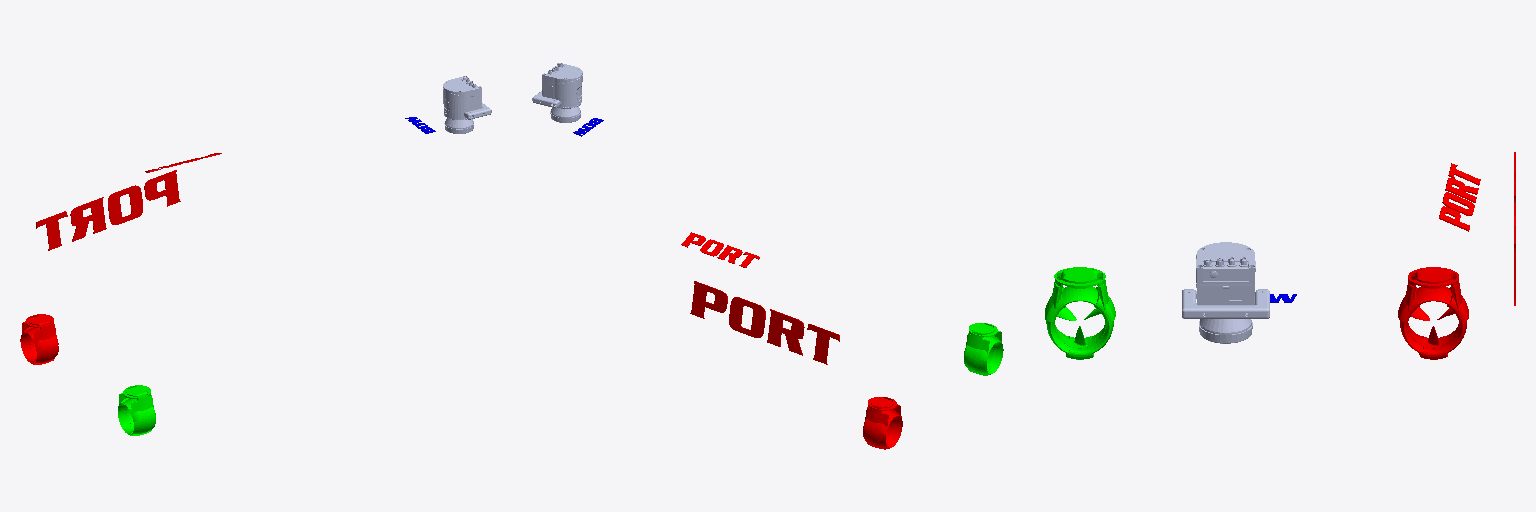
URDF robot description (propagator_description):
<robot
  name="propagator_description">
  <link
    name="base_link">
    <inertial>
      <origin
        xyz="0.53557 -0.0088755 0.25419"
        rpy="0 0 0" />
      <mass
        value="0.0079272" />
      <inertia
        ixx="1.165E-05"
        ixy="-4.7493E-08"
        ixz="-8.8369E-15"
        iyy="7.7709E-07"
        iyz="3.1429E-14"
        izz="1.2419E-05" />
    </inertial>
    <visual>
      <origin
        xyz="0 0 0"
        rpy="0 0 0" />
      <geometry>
        <mesh
          filename="package://propagator_description/meshes/base_link.STL" />
      </geometry>
      <material
        name="blue">
        <color
          rgba="0 0 1 .125" />
      </material>
    </visual>
    <collision>
      <origin
        xyz="0 0 0"
        rpy="0 0 0" />
      <geometry>
        <mesh
          filename="package://propagator_description/meshes/base_link.STL" />
      </geometry>
    </collision>
  </link>
  <link
    name="port_prop_housing">
    <inertial>
      <origin
        xyz="-0.0049896 1.1946E-05 0.021539"
        rpy="0 0 0" />
      <mass
        value="0.20662" />
      <inertia
        ixx="0.00068454"
        ixy="8.0817E-08"
        ixz="-1.2149E-05"
        iyy="0.00053748"
        iyz="-8.594E-08"
        izz="0.00033338" />
    </inertial>
    <visual>
      <origin
        xyz="0 0 0"
        rpy="0 0 0" />
      <geometry>
        <mesh
          filename="package://propagator_description/meshes/port_prop_housing.STL" />
      </geometry>
      <material
        name="red">
        <color
          rgba="1 0 0 0.5" />
      </material>
    </visual>
    <collision>
      <origin
        xyz="0 0 0"
        rpy="0 0 0" />
      <geometry>
        <mesh
          filename="package://propagator_description/meshes/port_prop_housing.STL" />
      </geometry>
    </collision>
  </link>
  <joint
    name="port_servo"
    type="revolute">
    <origin
      xyz="-0.65919 0.29656 -0.34588"
      rpy="4.0174E-35 0 0" />
    <parent
      link="base_link" />
    <child
      link="port_prop_housing" />
    <axis
      xyz="0 0 1" />
    <limit
      lower="0"
      upper="6.2832"
      effort="6"
      velocity="6.5973" />
  </joint>
  <link
    name="port_propeller">
    <inertial>
      <origin
        xyz="0.00048182 -1.2442E-06 2.894E-05"
        rpy="0 0 0" />
      <mass
        value="0.039686" />
      <inertia
        ixx="7.834E-05"
        ixy="-3.2019E-10"
        ixz="-2.3552E-06"
        iyy="4.1887E-05"
        iyz="1.4746E-10"
        izz="4.2037E-05" />
    </inertial>
    <visual>
      <origin
        xyz="0 0 0"
        rpy="0 0 0" />
      <geometry>
        <mesh
          filename="package://propagator_description/meshes/port_propeller.STL" />
      </geometry>
      <material
        name="red">
        <color
          rgba="1 0 0 0.5" />
      </material>
    </visual>
    <collision>
      <origin
        xyz="0 0 0"
        rpy="0 0 0" />
      <geometry>
        <mesh
          filename="package://propagator_description/meshes/port_propeller.STL" />
      </geometry>
    </collision>
  </link>
  <joint
    name="port_housing_to_prop"
    type="prismatic">
    <origin
      xyz="-0.00069186 0 -4.4696E-05"
      rpy="4.0174E-35 0 0" />
    <parent
      link="port_prop_housing" />
    <child
      link="port_propeller" />
    <axis
      xyz="-1 0 0" />
    <limit
      lower="0"
      upper="1"
      effort="1"
      velocity="1" />
  </joint>
  <link
    name="starboard_prop_housing">
    <inertial>
      <origin
        xyz="-0.0049896 1.2213E-05 0.021539"
        rpy="0 0 0" />
      <mass
        value="0.20662" />
      <inertia
        ixx="0.00068454"
        ixy="8.0542E-08"
        ixz="-1.2149E-05"
        iyy="0.00053748"
        iyz="-8.4831E-08"
        izz="0.00033338" />
    </inertial>
    <visual>
      <origin
        xyz="0 0 0"
        rpy="0 0 0" />
      <geometry>
        <mesh
          filename="package://propagator_description/meshes/starboard_prop_housing.STL" />
      </geometry>
      <material
        name="green">
        <color
          rgba="0 1 0 0.5" />
      </material>
    </visual>
    <collision>
      <origin
        xyz="0 0 0"
        rpy="0 0 0" />
      <geometry>
        <mesh
          filename="package://propagator_description/meshes/starboard_prop_housing.STL" />
      </geometry>
    </collision>
  </link>
  <joint
    name="starboard_servo"
    type="revolute">
    <origin
      xyz="-0.65919 -0.31212 -0.34588"
      rpy="4.0174E-35 0 0" />
    <parent
      link="base_link" />
    <child
      link="starboard_prop_housing" />
    <axis
      xyz="0 0 1" />
    <limit
      lower="0"
      upper="6.2832"
      effort="6"
      velocity="6.5973" />
  </joint>
  <link
    name="starboard_propeller">
    <inertial>
      <origin
        xyz="0.00048182 -1.2442E-06 2.894E-05"
        rpy="0 0 0" />
      <mass
        value="0.039686" />
      <inertia
        ixx="7.834E-05"
        ixy="-3.2019E-10"
        ixz="-2.3552E-06"
        iyy="4.1887E-05"
        iyz="1.4746E-10"
        izz="4.2037E-05" />
    </inertial>
    <visual>
      <origin
        xyz="0 0 0"
        rpy="0 0 0" />
      <geometry>
        <mesh
          filename="package://propagator_description/meshes/starboard_propeller.STL" />
      </geometry>
      <material
        name="green">
        <color
          rgba="0 1 0 0.5" />
      </material>
    </visual>
    <collision>
      <origin
        xyz="0 0 0"
        rpy="0 0 0" />
      <geometry>
        <mesh
          filename="package://propagator_description/meshes/starboard_propeller.STL" />
      </geometry>
    </collision>
  </link>
  <joint
    name="starboard_housing_to_prop"
    type="prismatic">
    <origin
      xyz="-0.000691858234449505 0 -4.46962839034115E-05"
      rpy="4.01736136899036E-35 0 0" />
    <parent
      link="starboard_prop_housing" />
    <child
      link="starboard_propeller" />
    <axis
      xyz="-1 0 0" />
    <limit lower="0" upper="1" velocity="1" effort="1" />
  </joint>

  <link
    name="lidar">
    <inertial>
      <origin
	xyz="0.0592107824998666 0.0527713136518488 -0.0249291589313144"
        rpy="0 0 0" />
      <mass
        value="1.29594590979252" />
      <inertia
        ixx="0.00314879199623082"
        ixy="-1.74282951480328E-07"
        ixz="-4.15021660215941E-07"
        iyy="0.00323945410310953"
        iyz="4.61557976596404E-05"
        izz="0.00217323763280054" />
    </inertial>
<!--rpy="0 0 -1.5708", xyz="0 0.065 0.02-->
    <visual>
      <origin
        xyz="-0.06 -0.065 0.02"
	rpy="0 3.14159 -1.5708" />
      <geometry>
        <mesh
          filename="package://propagator_description/meshes/lidar.STL" />
      </geometry>
      <material
        name="">
        <color
          rgba="0.792156862745098 0.819607843137255 0.933333333333333 1" />
      </material>
    </visual>
    <collision>
      <origin
        xyz="0 0 0"
        rpy="0 0 0" />
      <geometry>
        <mesh
          filename="package://propagator_description/meshes/lidar.STL" />
      </geometry>
    </collision>
  </link>

  <!-- Old rpy data
		rpy="-2.94943335198801 3.24078283203981E-05 1.57062975690281"-->
  <joint
    name="lidar_servo"
    type="revolute">
	
    <origin
      xyz="0.645299789819263 -0.0669769690222898 0.27477134491897"
      rpy="0 0 3.14159" />
    <parent
      link="base_link" />
    <child
      link="lidar" />
    <axis
      xyz="0 1 0" />
    <limit
      lower="0"
      upper="6.2832"
      effort="6"
      velocity="100" />
  </joint>
  
  <!-- Now we will add facia lettering to the base_link of the boat -->
  <link name="port_lettering">
    <visual>
      <origin
        xyz="0 0 0"
        rpy="0 0 0" />
      <geometry>
        <mesh filename="package://propagator_description/meshes/port_lettering.STL" />
      </geometry>
      <material name="red"/>
    </visual>
    <collision>
      <origin
        xyz="0 0 0"
        rpy="0 0 0" />
      <geometry>
        <mesh filename="package://propagator_description/meshes/port_lettering.STL" />
      </geometry>
    </collision>
  </link>
  <joint name="base_link_to_port_lettering" type="fixed">
      <origin
        xyz="-.070 .435 -.045"
        rpy="0 3.019 0" />
      <parent link="base_link" />
      <child link="port_lettering" />
  </joint>
</robot>

--- Facts derived from the render (not from the file) ---
The picture shows the robot from 3 angles, left to right: view 1: azimuth 30°, elevation 25°; view 2: azimuth 150°, elevation 25°; view 3: azimuth 270°, elevation 25°; orthographic projection.
Model propagator_description with 7 links and 6 joints (3 revolute, 2 prismatic, 1 fixed), rooted at base_link, posed every joint at zero.
Links seen in each view (by area): view 1: port_lettering, lidar, starboard_prop_housing, port_prop_housing; view 2: port_lettering, lidar, port_prop_housing, starboard_prop_housing; view 3: lidar, starboard_prop_housing, port_prop_housing, port_lettering.
Link boxes in pixels (x1=…): port_lettering: x1=36, y1=153, x2=221, y2=250; lidar: x1=443, y1=76, x2=491, y2=133; starboard_prop_housing: x1=118, y1=385, x2=155, y2=435; port_prop_housing: x1=20, y1=314, x2=58, y2=364; port_lettering: x1=681, y1=232, x2=839, y2=364; lidar: x1=532, y1=63, x2=582, y2=122; port_prop_housing: x1=863, y1=397, x2=902, y2=449; starboard_prop_housing: x1=964, y1=323, x2=1003, y2=375; lidar: x1=1182, y1=242, x2=1269, y2=343; starboard_prop_housing: x1=1045, y1=267, x2=1115, y2=359; port_prop_housing: x1=1398, y1=267, x2=1468, y2=359; port_lettering: x1=1439, y1=152, x2=1515, y2=305.
Bounding box of the posed robot: 1.43 × 0.811 × 0.8072 m (x, y, z).
Meshes: 7 distinct files referenced, 6 mesh visuals loaded (6 binary STL); not drawn: 1 (reference not matched to a file when rendering).